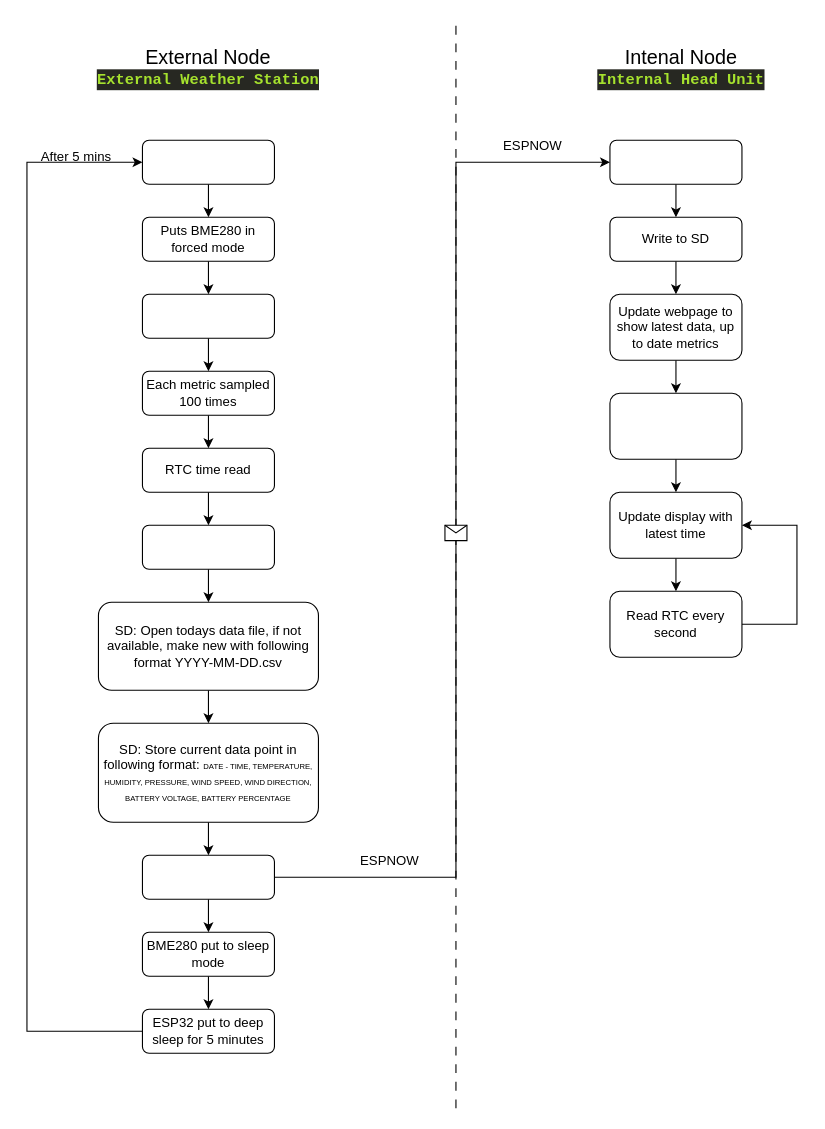
The diagram is 825 pixels wide and 1129 high, and some of its shapes have lost their labels. Each missing label, with the centre of its shape:
"Battery info read" belongs at pixel 207 546.
"BME280 sensor data stream established" belongs at pixel 207 315.
"Data point sent to internal node" belongs at pixel 207 876.
"ESP32 Wakes" belongs at pixel 207 161.
"Recieve new datapoint" belongs at pixel 675 161.
"Update display with latest data" belongs at pixel 675 425.
